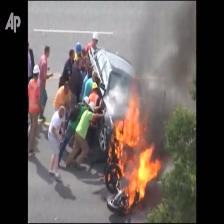fire: (109, 79, 160, 208)
